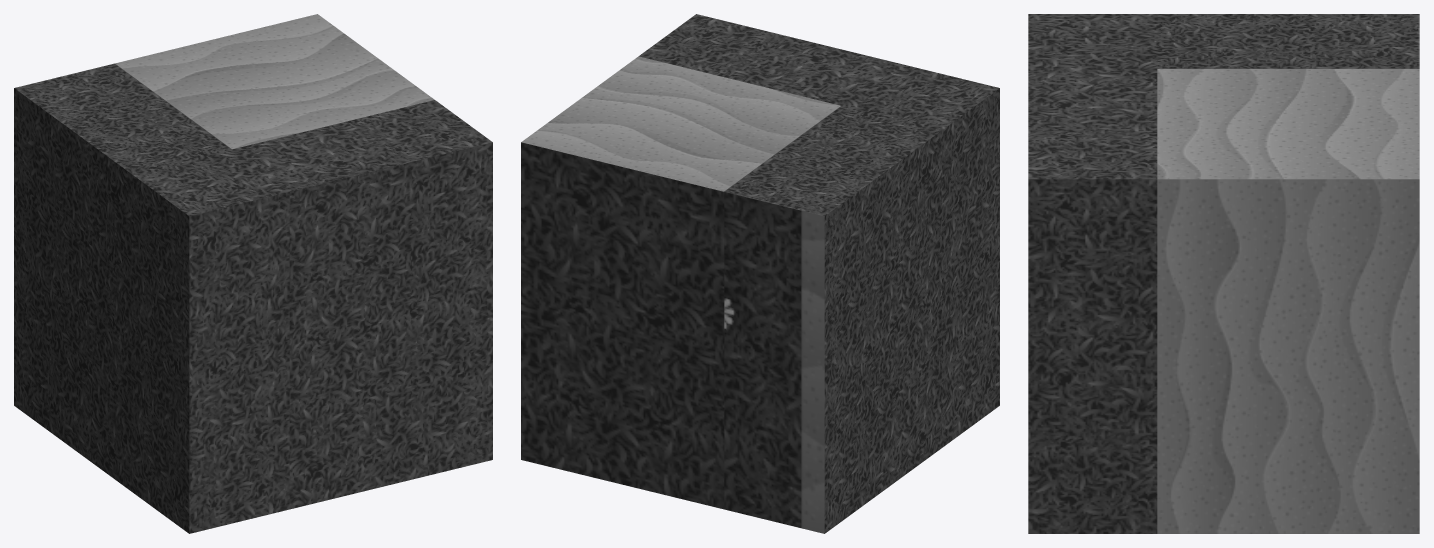
Rendered from SandGrassCorner.fbx.
3 views of the same model, side by side, from view 1: azimuth 30°, elevation 25°; view 2: azimuth 150°, elevation 25°; view 3: azimuth 270°, elevation 25° (orthographic). The views are drawn at different scales.
Visible parts, largest first — view 1: Cube.028; view 2: Cube.028; view 3: Cube.028.
Part boxes in pixels (x1,y1,x2,y2): Cube.028: (14,14,492,533); Cube.028: (521,14,999,533); Cube.028: (1028,14,1419,533).
Bounding box in the file's own units: 100 × 100 × 100.
